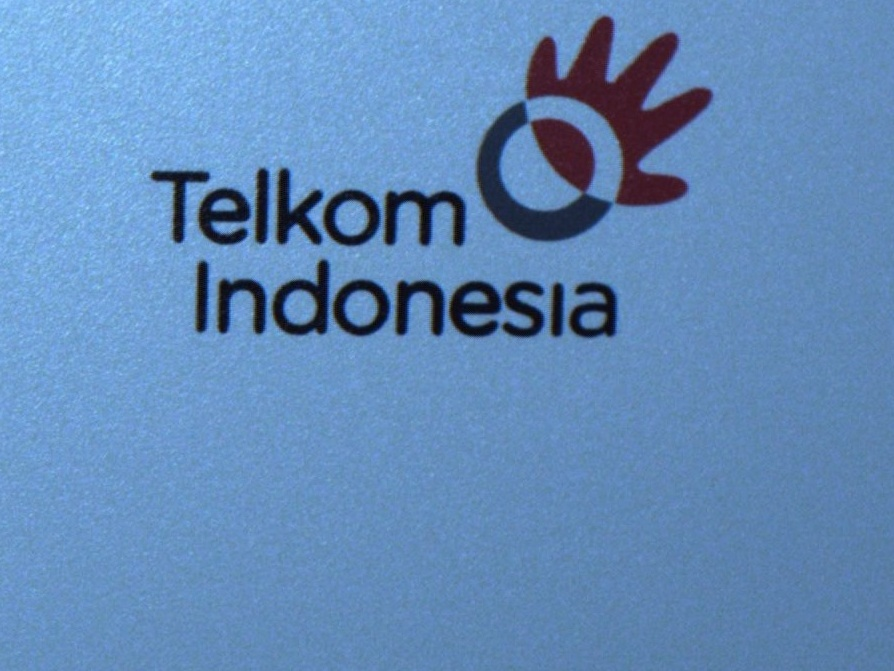BQ_IndonTelkom: (127, 6, 734, 359)
